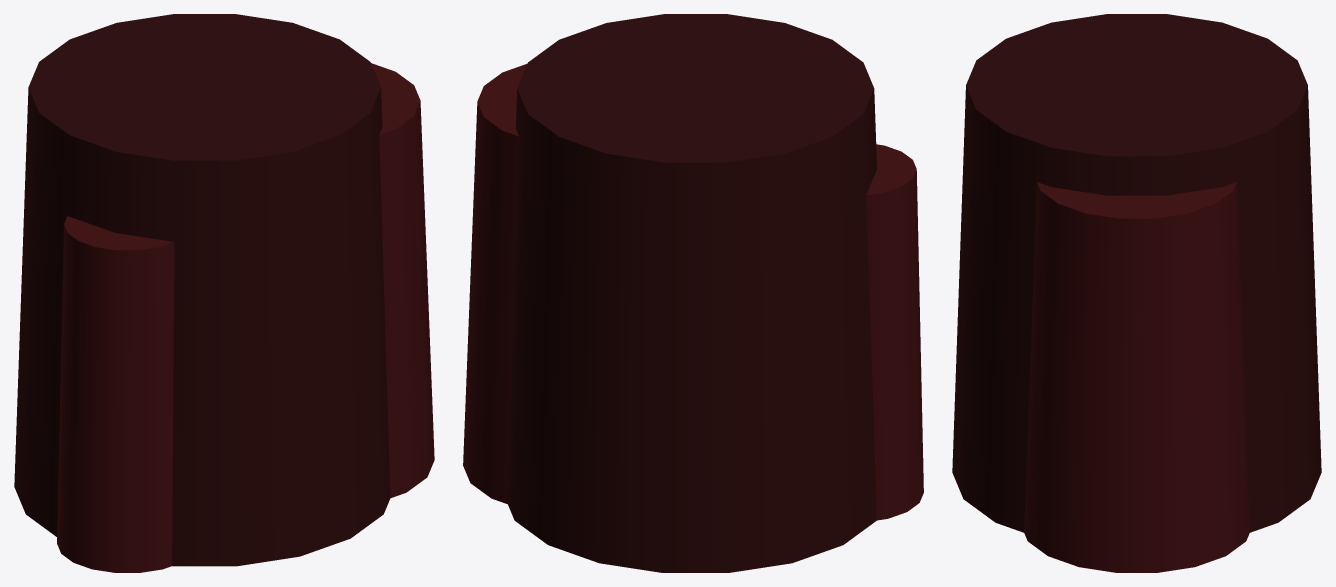
Rendered from stain.glb.
The picture shows the model from 3 angles, left to right: view 1: azimuth 30°, elevation 25°; view 2: azimuth 150°, elevation 25°; view 3: azimuth 270°, elevation 25°; orthographic projection. The views are drawn at different scales.
Visible parts, largest first — view 1: stain; view 2: stain; view 3: stain.
Part boxes in pixels (left/top/right/bottom): stain: left=14, top=14, right=434, bottom=572; stain: left=463, top=14, right=923, bottom=572; stain: left=952, top=14, right=1321, bottom=572.
Size of the model in its own units: 1.02 by 1 by 0.864.
